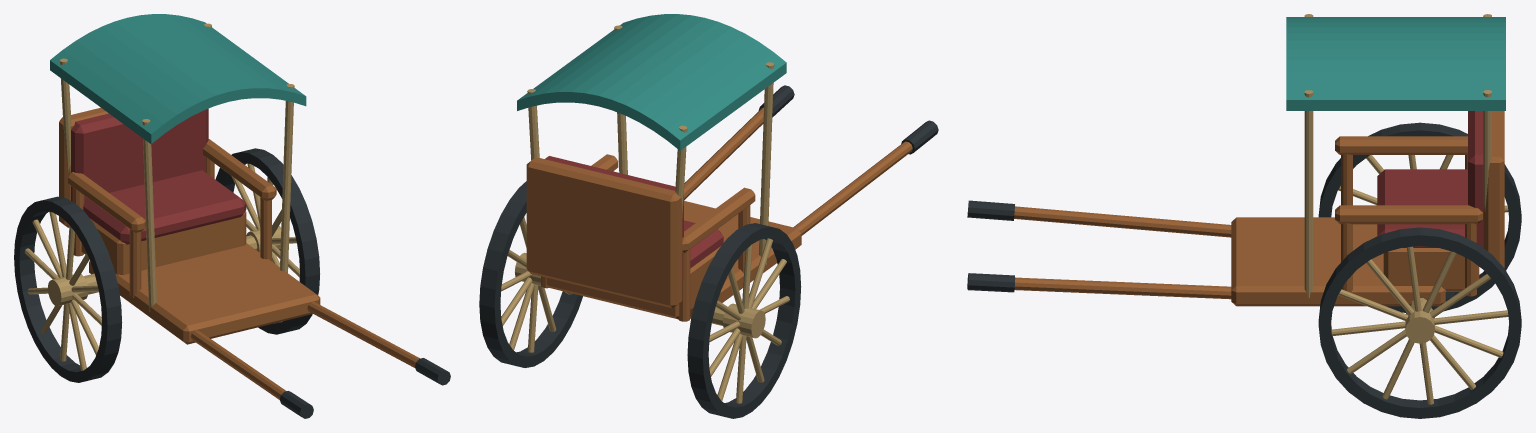
The model's file is NEW_RECOVERY_117_LOD0.glb.
3 renders of one model, left to right at view 1: azimuth 30°, elevation 25°; view 2: azimuth 150°, elevation 25°; view 3: azimuth 270°, elevation 25°, orthographic. The views are drawn at different scales.
Parts seen in each view (by area): view 1: Rickshaw_static_fused; view 2: Rickshaw_static_fused; view 3: Rickshaw_static_fused.
Boxes of the visible parts, x1,y1,x2,y2 form: Rickshaw_static_fused: (14,14,450,418); Rickshaw_static_fused: (479,14,938,418); Rickshaw_static_fused: (967,14,1521,418).
Size of the model in its own units: 2 by 2.58 by 3.93.
